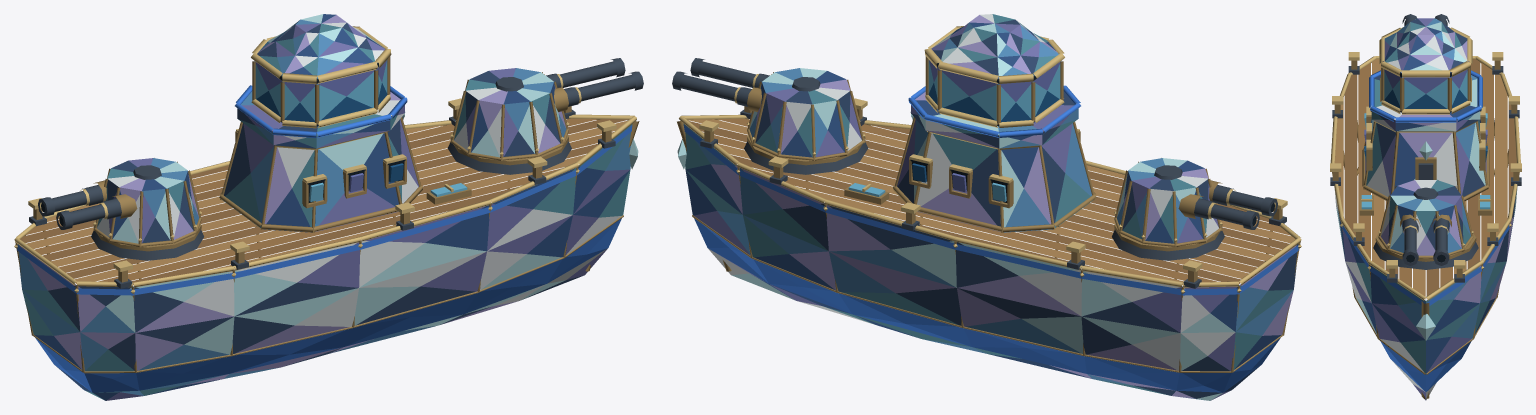
3 views of the same model, side by side, from view 1: azimuth 30°, elevation 25°; view 2: azimuth 150°, elevation 25°; view 3: azimuth 270°, elevation 25° (orthographic). The views are drawn at different scales.
Visible parts, largest first — view 1: hull-facet-belt-3, hull-facet-belt-2, wooden-plank-deck, citadel-crystal-armor, hull-facet-belt-1, forward-twin-turret-faceted-shell, aft-twin-turret-faceted-shell, team-gunwale-ribbon, hull-facet-belt-0, bridge-armored-ledge, bridge-crystal-crown, bridge-faceted-roof (+12 smaller); view 2: hull-facet-belt-3, hull-facet-belt-2, wooden-plank-deck, citadel-crystal-armor, hull-facet-belt-1, forward-twin-turret-faceted-shell, aft-twin-turret-faceted-shell, team-gunwale-ribbon, hull-facet-belt-0, bridge-armored-ledge, bridge-crystal-crown, bridge-faceted-roof (+12 smaller); view 3: wooden-plank-deck, citadel-crystal-armor, hull-facet-belt-3, hull-facet-belt-2, forward-twin-turret-faceted-shell, bridge-armored-ledge, bridge-crystal-crown, bridge-faceted-roof, bridge-crystal-window-3, hull-facet-belt-1, team-gunwale-ribbon, forward-twin-turret-bearing (+22 smaller).
Boxes of the visible parts, left/top/right/bottom form: hull-facet-belt-3: left=17, top=124, right=632, bottom=332; hull-facet-belt-2: left=22, top=170, right=630, bottom=371; wooden-plank-deck: left=20, top=118, right=628, bottom=285; citadel-crystal-armor: left=223, top=119, right=418, bottom=232; hull-facet-belt-1: left=35, top=218, right=621, bottom=392; forward-twin-turret-faceted-shell: left=454, top=68, right=566, bottom=157; aft-twin-turret-faceted-shell: left=97, top=158, right=198, bottom=243; team-gunwale-ribbon: left=17, top=125, right=632, bottom=295; hull-facet-belt-0: left=56, top=248, right=607, bottom=400; bridge-armored-ledge: left=237, top=91, right=404, bottom=148; bridge-crystal-crown: left=276, top=14, right=366, bottom=57; bridge-faceted-roof: left=257, top=26, right=384, bottom=78; hull-facet-belt-3: left=683, top=123, right=1298, bottom=332; hull-facet-belt-2: left=685, top=170, right=1293, bottom=371; wooden-plank-deck: left=687, top=118, right=1295, bottom=285; citadel-crystal-armor: left=897, top=119, right=1092, bottom=232; hull-facet-belt-1: left=694, top=218, right=1280, bottom=392; forward-twin-turret-faceted-shell: left=749, top=68, right=861, bottom=157; aft-twin-turret-faceted-shell: left=1117, top=158, right=1218, bottom=243; team-gunwale-ribbon: left=683, top=125, right=1298, bottom=295; hull-facet-belt-0: left=708, top=248, right=1259, bottom=400; bridge-armored-ledge: left=911, top=91, right=1078, bottom=148; bridge-crystal-crown: left=949, top=14, right=1039, bottom=57; bridge-faceted-roof: left=931, top=26, right=1059, bottom=78; wooden-plank-deck: left=1334, top=59, right=1516, bottom=299; citadel-crystal-armor: left=1365, top=119, right=1486, bottom=196; hull-facet-belt-3: left=1334, top=188, right=1517, bottom=338; hull-facet-belt-2: left=1345, top=262, right=1506, bottom=373; forward-twin-turret-faceted-shell: left=1380, top=180, right=1470, bottom=255; bridge-armored-ledge: left=1371, top=75, right=1480, bottom=131; bridge-crystal-crown: left=1397, top=18, right=1454, bottom=54; bridge-faceted-roof: left=1383, top=32, right=1468, bottom=72; bridge-crystal-window-3: left=1402, top=77, right=1449, bottom=108; hull-facet-belt-1: left=1380, top=341, right=1471, bottom=391; team-gunwale-ribbon: left=1342, top=225, right=1509, bottom=305; forward-twin-turret-bearing: left=1373, top=242, right=1478, bottom=269.
Size of the model in its own units: 1.65 by 0.838 by 0.548.
